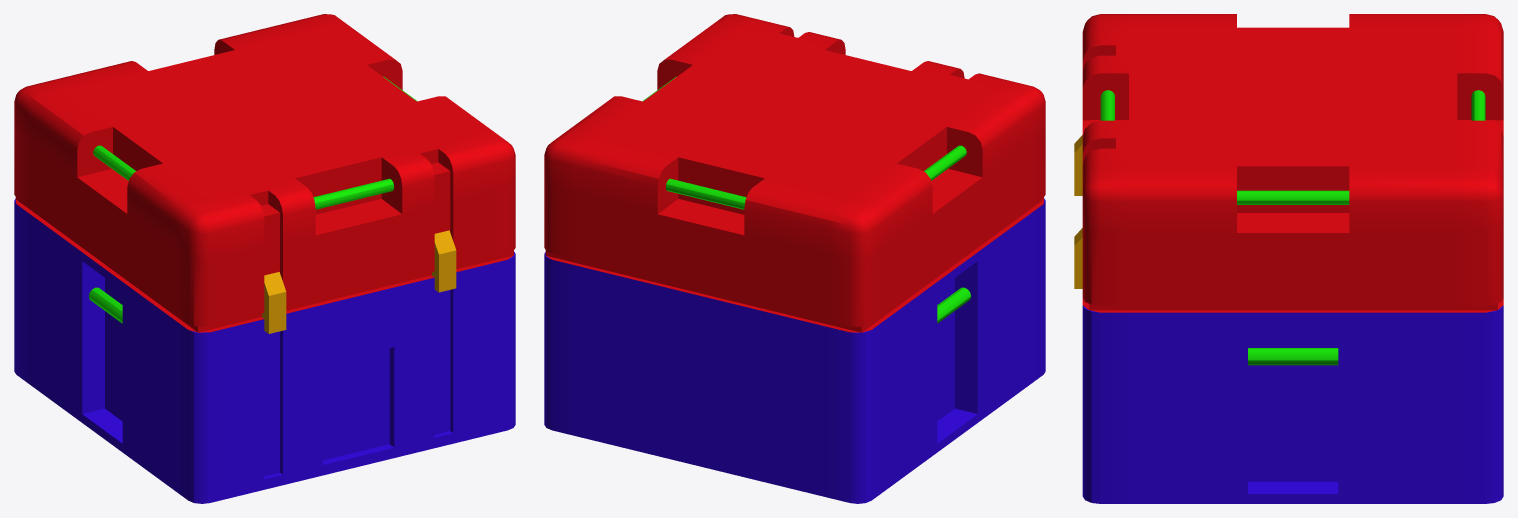
File: Crate.fbx
The picture shows the model from 3 angles, left to right: view 1: azimuth 30°, elevation 25°; view 2: azimuth 150°, elevation 25°; view 3: azimuth 270°, elevation 25°; orthographic projection. The views are drawn at different scales.
Parts seen in each view (by area): view 1: lock.001; view 2: lock.001; view 3: lock.001.
Boxes of the visible parts, bbox=[...] form: lock.001: bbox=[14, 14, 515, 503]; lock.001: bbox=[544, 14, 1045, 503]; lock.001: bbox=[1074, 14, 1503, 503].
Bounding box in the file's own units: 200 × 167 × 204.
